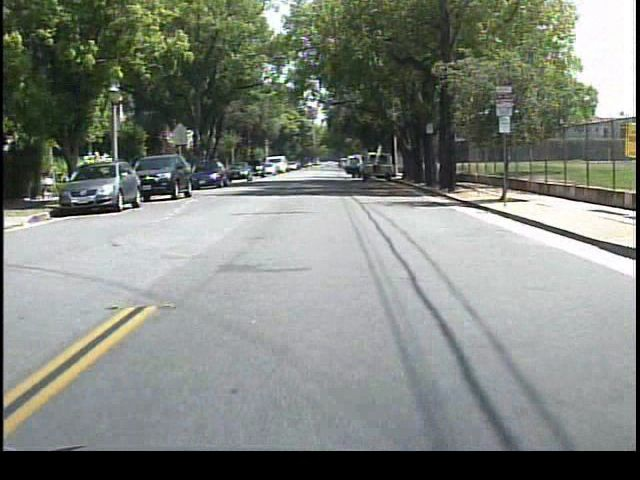person: (346, 156, 362, 181)
